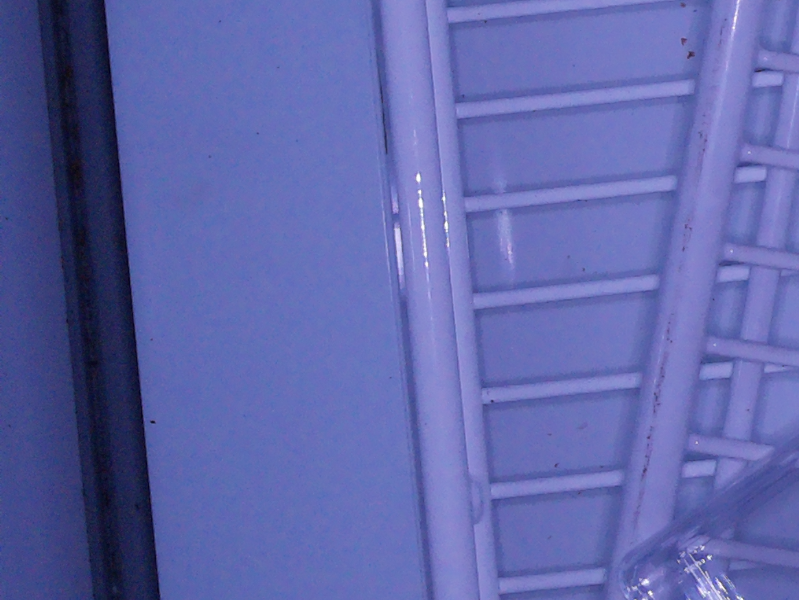plate: (619, 432, 799, 600)
